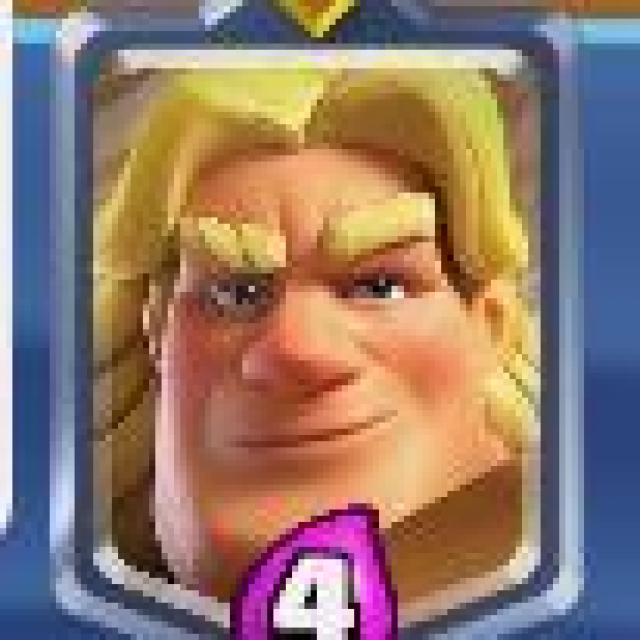Golden_Knight: (54, 15, 584, 640)
